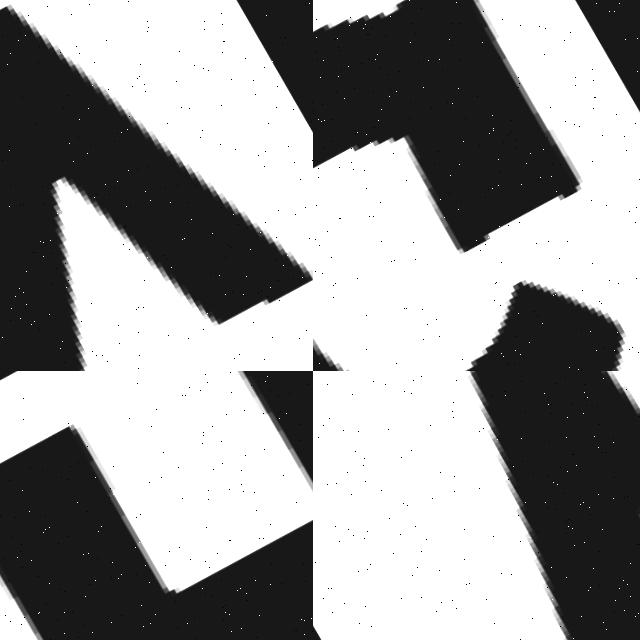G: (313, 0, 640, 371)
H: (0, 420, 313, 640)
N: (0, 0, 313, 371)
V: (339, 371, 640, 640)
